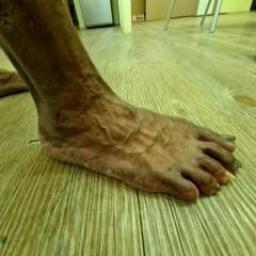Lateral View -Right Foot-: (16, 56, 249, 226)
